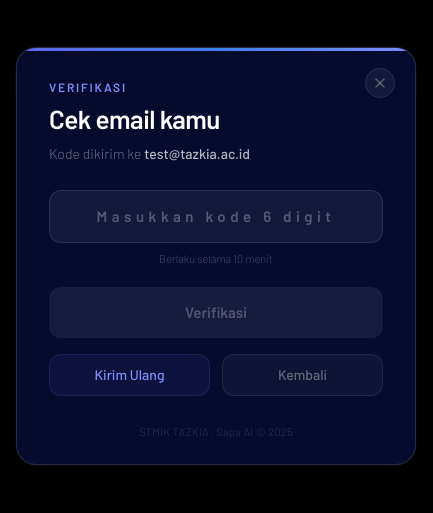
Test: LoginPage › handles resend code
Click the button "Kirim Ulang". click: [130, 375]
box: x1=49 y1=354 x2=210 y2=396
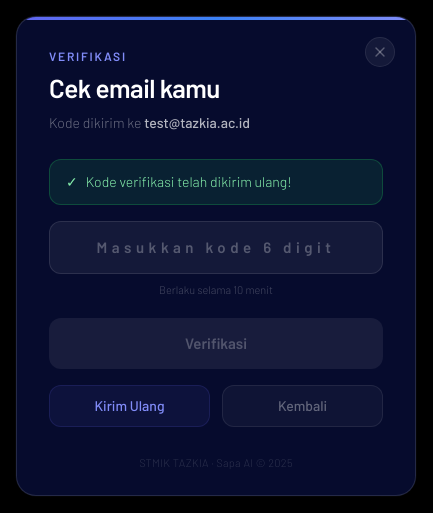
Expected: the text "✓ Kode verifikasi telah dikirim ulang!" is shown, x1=49 y1=159 x2=383 y2=205
